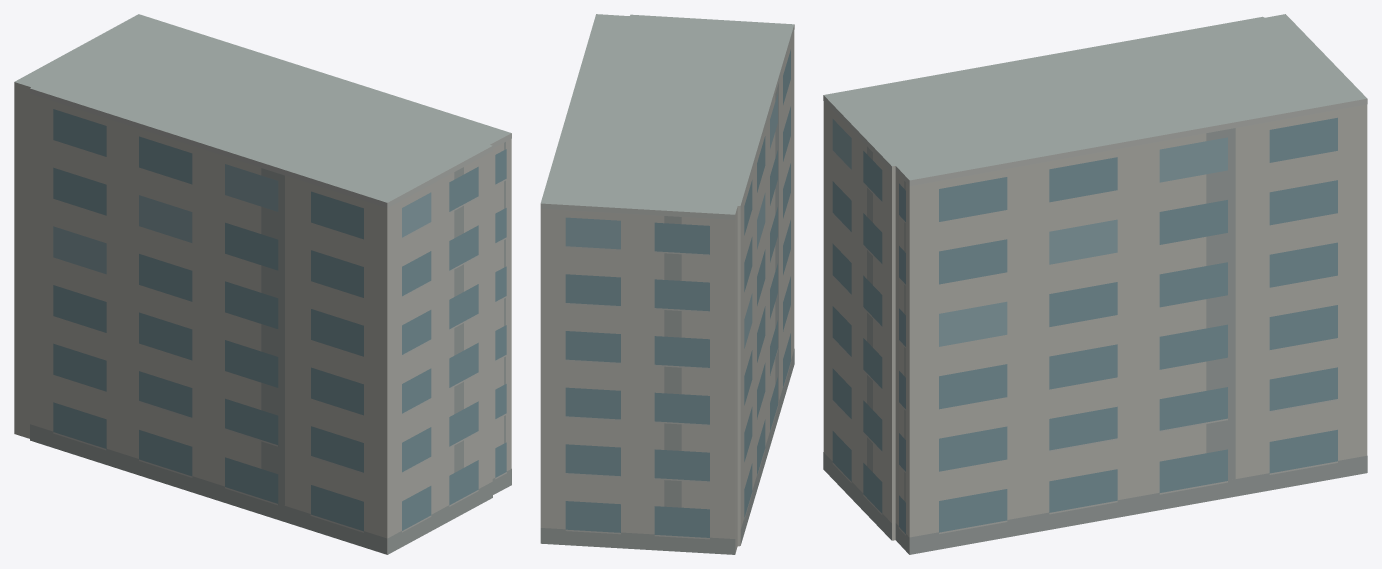
Rendered from survey-upis-32892538.glb.
3 renders of one model, left to right at view 1: azimuth 30°, elevation 25°; view 2: azimuth 150°, elevation 25°; view 3: azimuth 270°, elevation 25°, orthographic. The views are drawn at different scales.
Visible parts, largest first — view 1: survey-upis-32892538.tmp; view 2: survey-upis-32892538.tmp; view 3: survey-upis-32892538.tmp.
Part boxes in pixels (x1,y1,x2,y2): survey-upis-32892538.tmp: (14,14,511,554); survey-upis-32892538.tmp: (540,14,794,554); survey-upis-32892538.tmp: (823,14,1367,554).
Size of the model in its own units: 14.93 by 15.65 by 20.62.
